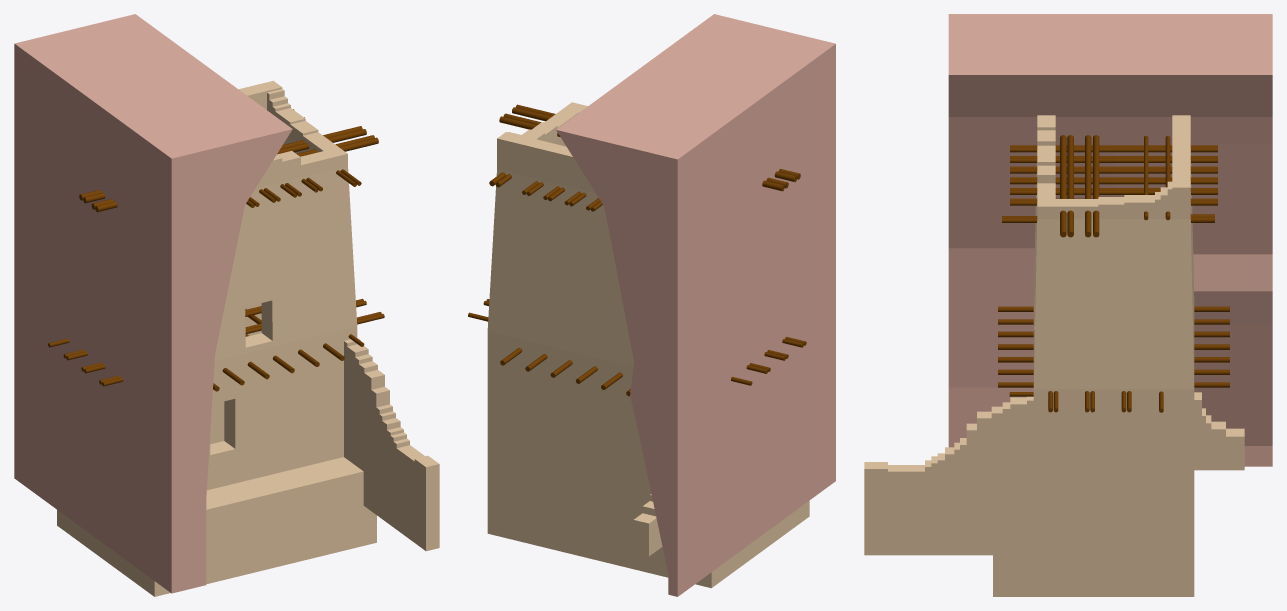
Rendered from Tower House Assembly.dae.
The picture shows the model from 3 angles, left to right: view 1: azimuth 30°, elevation 25°; view 2: azimuth 150°, elevation 25°; view 3: azimuth 270°, elevation 25°; orthographic projection. The views are drawn at different scales.
Visible parts, largest first — view 1: Cliff Wall, Tower House Walls, Part 31; view 2: Cliff Wall, Tower House Walls; view 3: Tower House Walls, Cliff Wall, Part 11, Part 17, Part 13, Part 15, Part 19, Part 29, Part 30, Part 32, Part 31.
Boxes of the visible parts, x1,y1,x2,y2 form: Cliff Wall: (14, 14, 292, 593); Tower House Walls: (57, 80, 439, 596); Part 31: (83, 129, 366, 203); Cliff Wall: (556, 14, 835, 596); Tower House Walls: (487, 102, 809, 588); Tower House Walls: (864, 115, 1244, 596); Cliff Wall: (948, 14, 1272, 466); Part 11: (1010, 147, 1217, 152); Part 17: (1010, 179, 1217, 184); Part 13: (1010, 158, 1217, 162); Part 15: (1010, 169, 1217, 173); Part 19: (1010, 190, 1217, 194); Part 29: (1060, 135, 1066, 237); Part 30: (1067, 135, 1073, 237); Part 32: (1093, 135, 1099, 237); Part 31: (1085, 135, 1091, 237).
Size of the model in its own units: 7.28 by 8.91 by 11.29.
